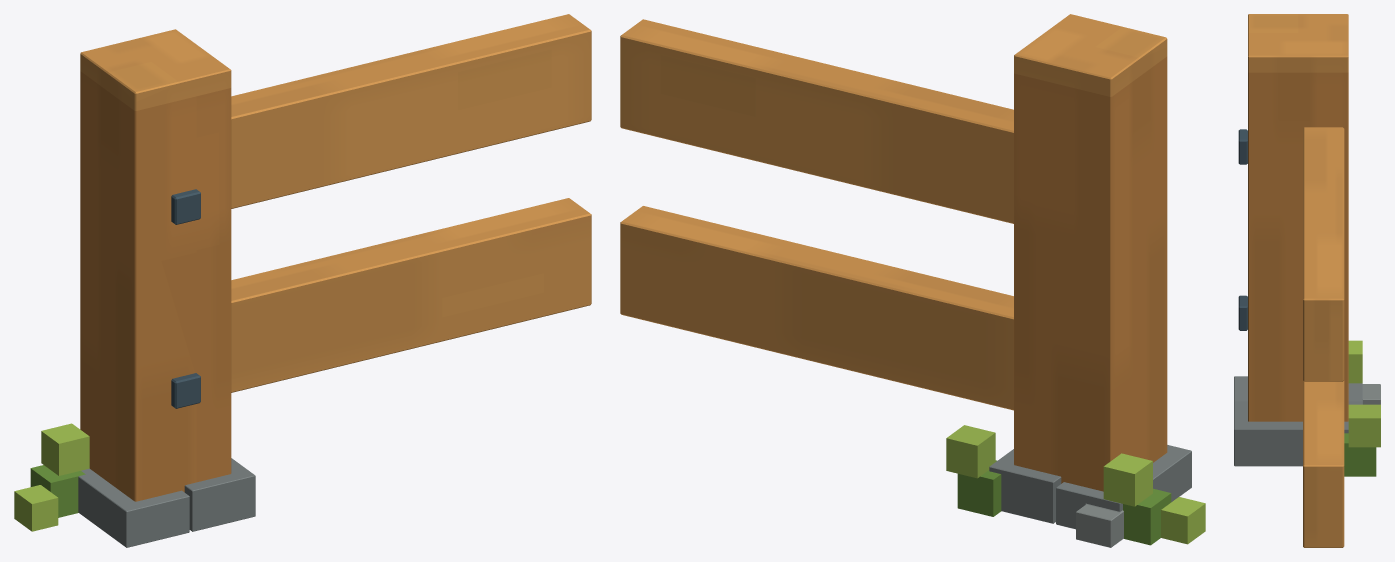
The model's file is SM_VMF_Fence_Low_Straight.fbx.
The picture shows the model from 3 angles, left to right: view 1: azimuth 30°, elevation 25°; view 2: azimuth 150°, elevation 25°; view 3: azimuth 270°, elevation 25°; orthographic projection. The views are drawn at different scales.
Visible parts, largest first — view 1: SM_VMF_Fence_Low_Straight_SpanX_Rails, SM_VMF_Fence_Low_Straight_Post_Post, SM_VMF_Fence_Low_Straight_Post_Foot_Stones, SM_VMF_Fence_Low_Straight_Post_Grass_Blocks, SM_VMF_Fence_Low_Straight_SpanX_PostBolt70, SM_VMF_Fence_Low_Straight_SpanX_PostBolt30; view 2: SM_VMF_Fence_Low_Straight_SpanX_Rails, SM_VMF_Fence_Low_Straight_Post_Post, SM_VMF_Fence_Low_Straight_Post_Grass_Blocks, SM_VMF_Fence_Low_Straight_Post_Foot_Stones; view 3: SM_VMF_Fence_Low_Straight_Post_Post, SM_VMF_Fence_Low_Straight_SpanX_Rails, SM_VMF_Fence_Low_Straight_Post_Foot_Stones, SM_VMF_Fence_Low_Straight_Post_Grass_Blocks, SM_VMF_Fence_Low_Straight_SpanX_PostBolt70, SM_VMF_Fence_Low_Straight_SpanX_PostBolt30.
Part boxes in pixels (x1,y1,x2,y2): SM_VMF_Fence_Low_Straight_SpanX_Rails: (231, 14, 591, 392); SM_VMF_Fence_Low_Straight_Post_Post: (80, 29, 231, 501); SM_VMF_Fence_Low_Straight_Post_Foot_Stones: (78, 458, 255, 547); SM_VMF_Fence_Low_Straight_Post_Grass_Blocks: (14, 423, 89, 531); SM_VMF_Fence_Low_Straight_SpanX_PostBolt70: (171, 189, 200, 224); SM_VMF_Fence_Low_Straight_SpanX_PostBolt30: (171, 373, 200, 408); SM_VMF_Fence_Low_Straight_SpanX_Rails: (620, 19, 1013, 410); SM_VMF_Fence_Low_Straight_Post_Post: (1014, 14, 1167, 491); SM_VMF_Fence_Low_Straight_Post_Grass_Blocks: (946, 425, 1205, 545); SM_VMF_Fence_Low_Straight_Post_Foot_Stones: (989, 445, 1191, 547); SM_VMF_Fence_Low_Straight_Post_Post: (1248, 14, 1348, 421); SM_VMF_Fence_Low_Straight_SpanX_Rails: (1303, 127, 1344, 547); SM_VMF_Fence_Low_Straight_Post_Foot_Stones: (1234, 376, 1380, 466); SM_VMF_Fence_Low_Straight_Post_Grass_Blocks: (1344, 340, 1380, 476); SM_VMF_Fence_Low_Straight_SpanX_PostBolt70: (1238, 129, 1247, 164); SM_VMF_Fence_Low_Straight_SpanX_PostBolt30: (1238, 295, 1247, 330).
Bounding box in the file's own units: 127 × 97 × 32.
1 material, 1 textured.
